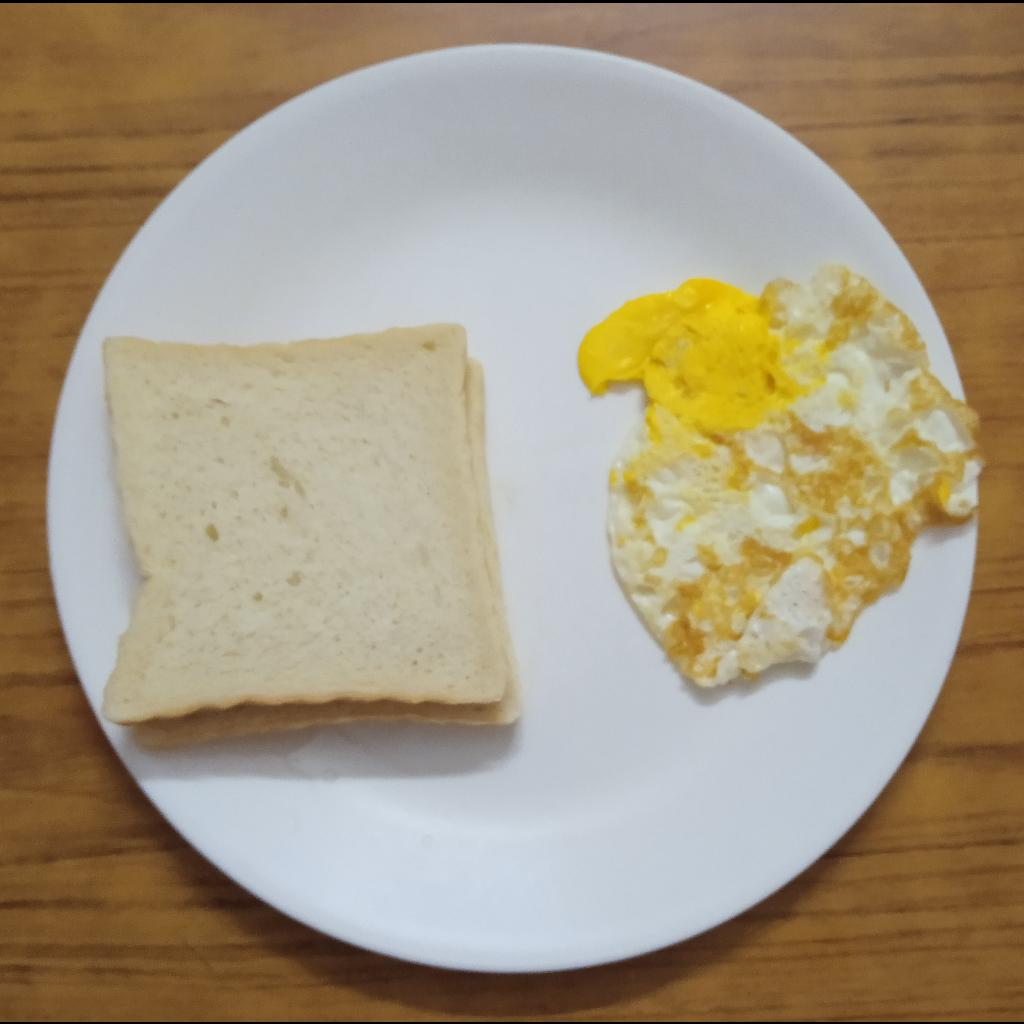bread: (105, 315, 524, 746)
egg: (574, 261, 990, 690)
